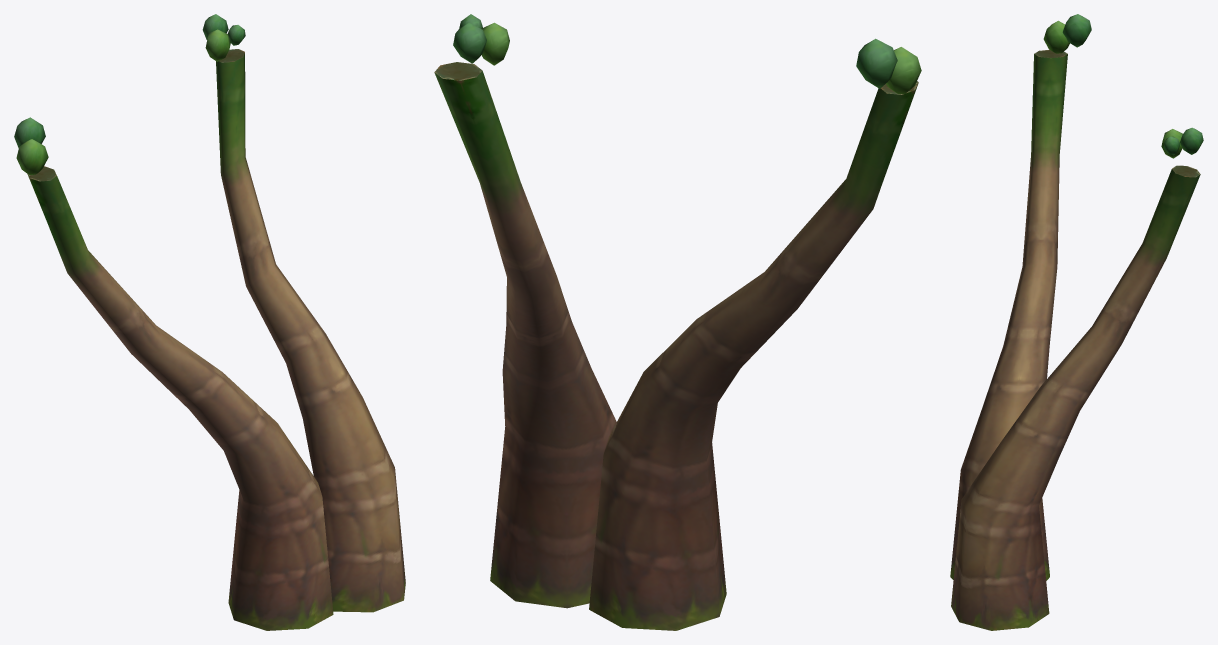
File: scene_lawennushandao_yeshu02.FBX
3 renders of one model, left to right at view 1: azimuth 30°, elevation 25°; view 2: azimuth 150°, elevation 25°; view 3: azimuth 270°, elevation 25°, orthographic. The views are drawn at different scales.
Parts seen in each view (by area): view 1: scene_lawennushandao_yeshu02; view 2: scene_lawennushandao_yeshu02; view 3: scene_lawennushandao_yeshu02.
Boxes of the visible parts, x1,y1,x2,y2 form: scene_lawennushandao_yeshu02: [14, 14, 405, 630]; scene_lawennushandao_yeshu02: [434, 14, 921, 630]; scene_lawennushandao_yeshu02: [950, 14, 1203, 630].
Size of the model in its own units: 292 by 409 by 200.
